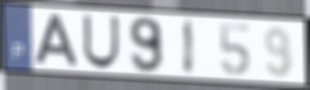5: (218, 22, 251, 77)
9: (127, 15, 166, 75), (263, 24, 295, 79)
A: (33, 13, 81, 68)
I: (182, 17, 196, 77)
U: (81, 13, 121, 71)
